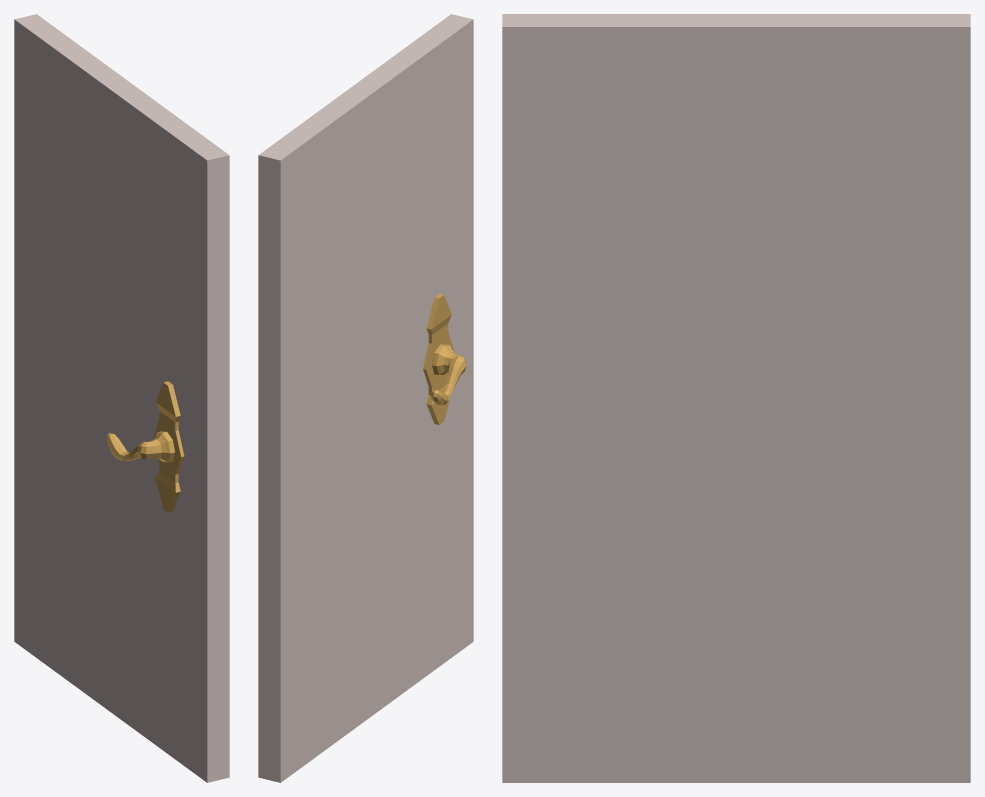
Rendered from Door.fbx.
3 views of the same model, side by side, from view 1: azimuth 30°, elevation 25°; view 2: azimuth 150°, elevation 25°; view 3: azimuth 270°, elevation 25° (orthographic). The views are drawn at different scales.
Parts seen in each view (by area): view 1: Door, KnobBacking, Knob; view 2: Door, KnobBacking, Knob; view 3: Door.
Part boxes in pixels (x1,y1,x2,y2): Door: [14, 14, 229, 782]; KnobBacking: [153, 381, 184, 512]; Knob: [107, 431, 174, 462]; Door: [258, 14, 473, 782]; KnobBacking: [423, 293, 453, 424]; Knob: [431, 344, 466, 405]; Door: [502, 14, 970, 782].
Bounding box in the file's own units: 84.63 × 899 × 505.
